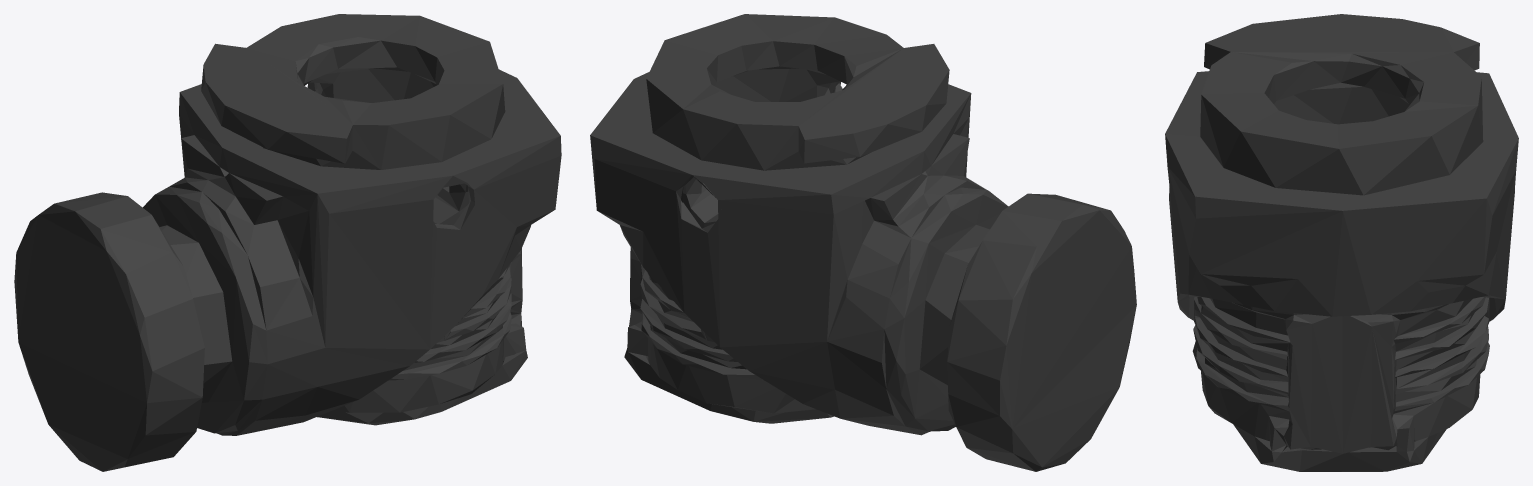
The model's file is front_left_hip_compressed.dae.
3 renders of one model, left to right at view 1: azimuth 30°, elevation 25°; view 2: azimuth 150°, elevation 25°; view 3: azimuth 270°, elevation 25°, orthographic. The views are drawn at different scales.
Visible parts, largest first — view 1: node; view 2: node; view 3: node.
Part boxes in pixels (x1,y1,x2,y2): node: (14, 14, 561, 471); node: (590, 14, 1136, 471); node: (1165, 14, 1518, 471).
Bounding box in the file's own units: 0.1422 × 0.1 × 0.0945.
Materials: 1 (1 with a texture image).
